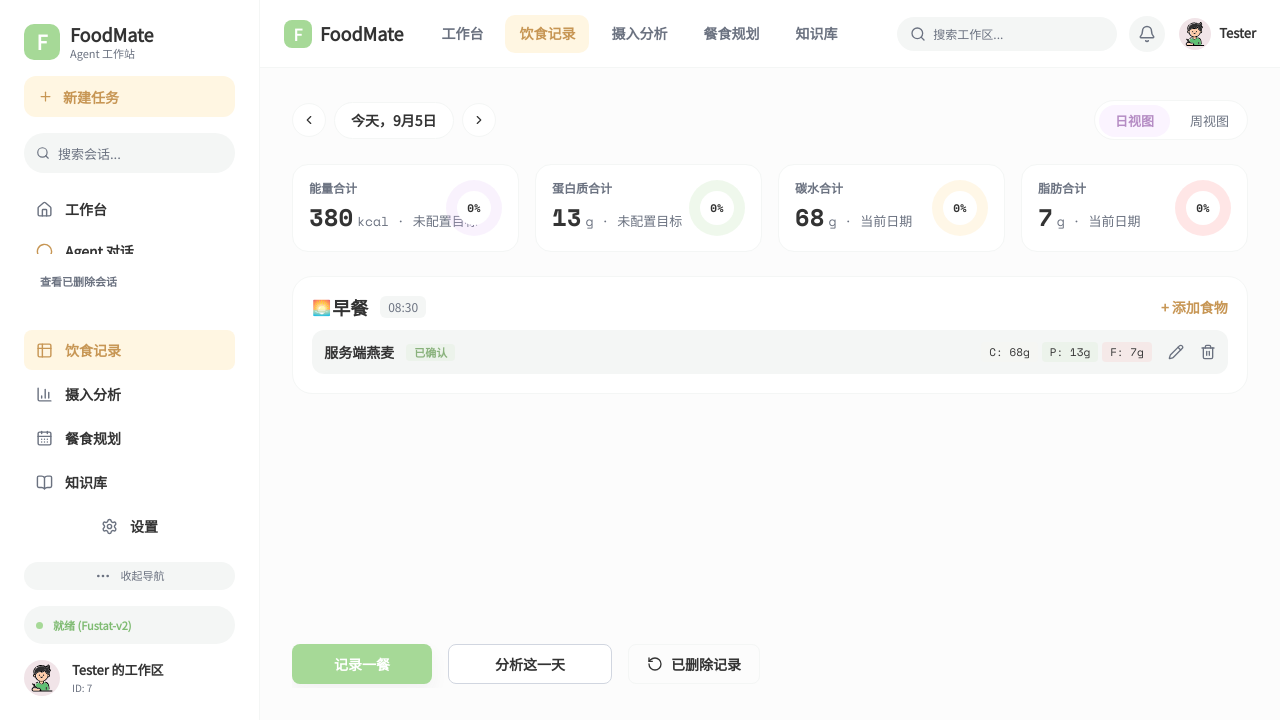
Test: DietRecordsPage real mode › deletes a real log with the server revision
Click the button named "删除服务端燕麦所在记录" at (1208, 352), box [1200,344,1216,360]
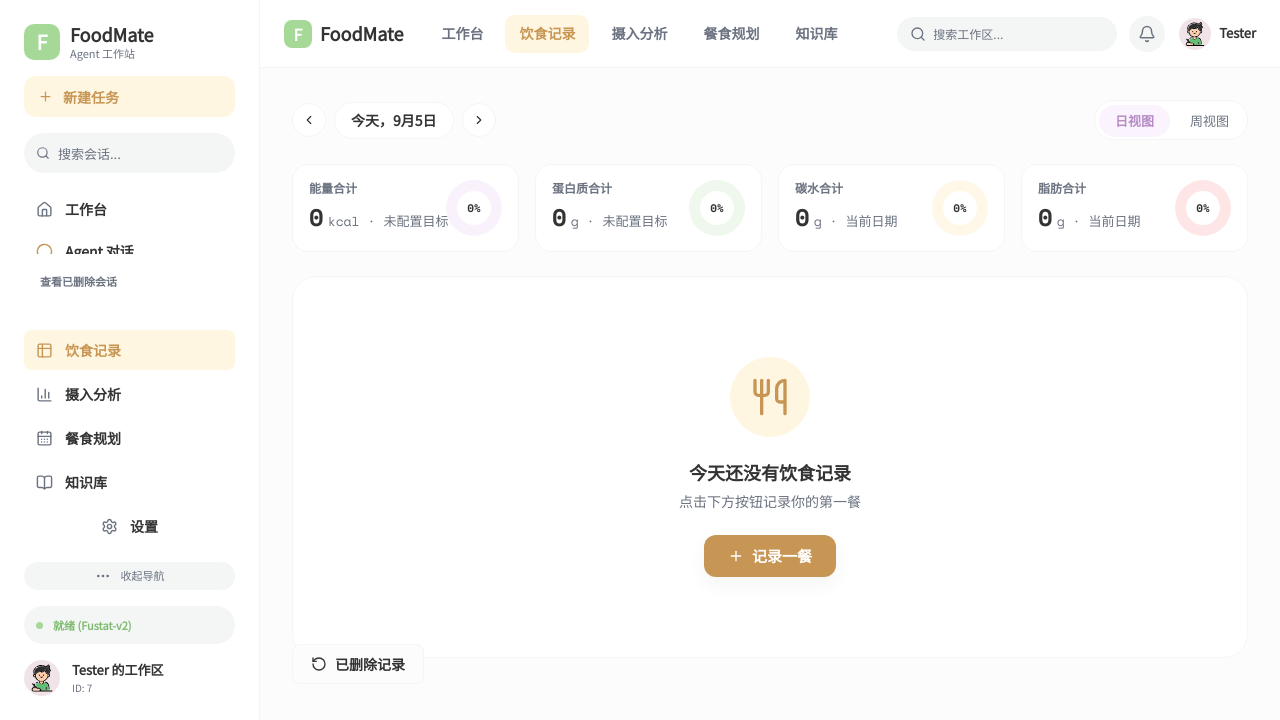
Result: the text "服务端燕麦" is gone
